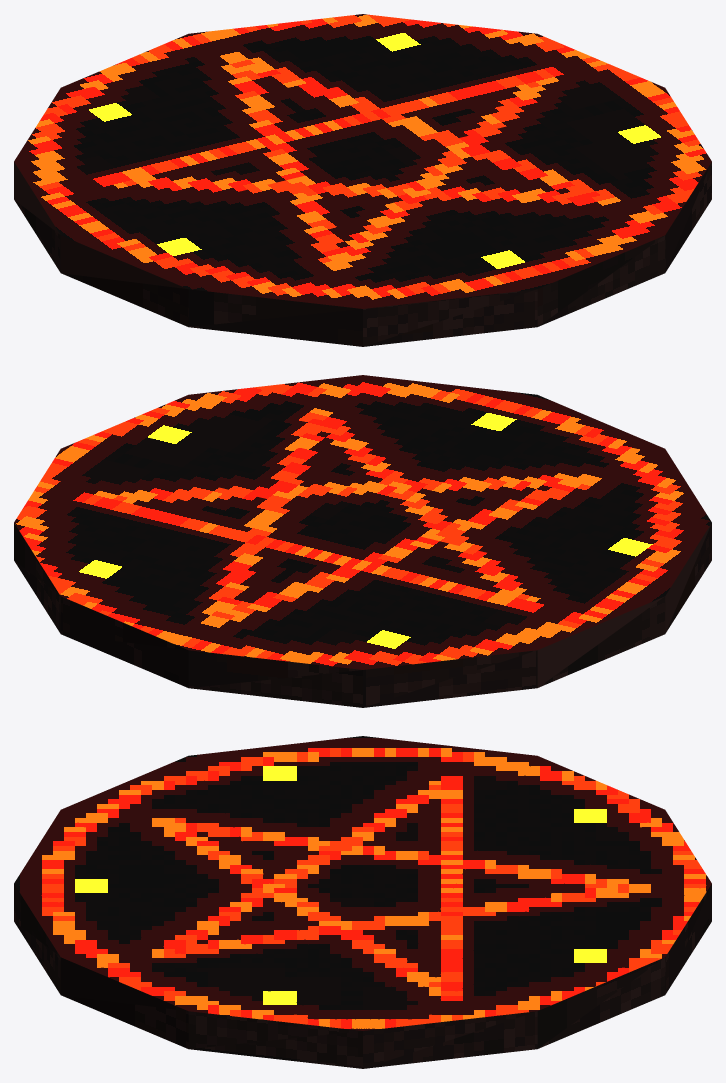
File: demon_pad.glb
3 renders of one model, top to bottom at view 1: azimuth 30°, elevation 25°; view 2: azimuth 150°, elevation 25°; view 3: azimuth 270°, elevation 25°, orthographic.
Visible parts, largest first — view 1: DemonPad; view 2: DemonPad; view 3: DemonPad.
Boxes of the visible parts, box(x1,y1,x2,y2) form: DemonPad: box(14, 14, 711, 346); DemonPad: box(14, 375, 711, 707); DemonPad: box(14, 736, 711, 1068).
Size of what is drawn, in the model's own units: 2.5 by 0.15 by 2.5.
Materials: 1 (1 with a texture image).
